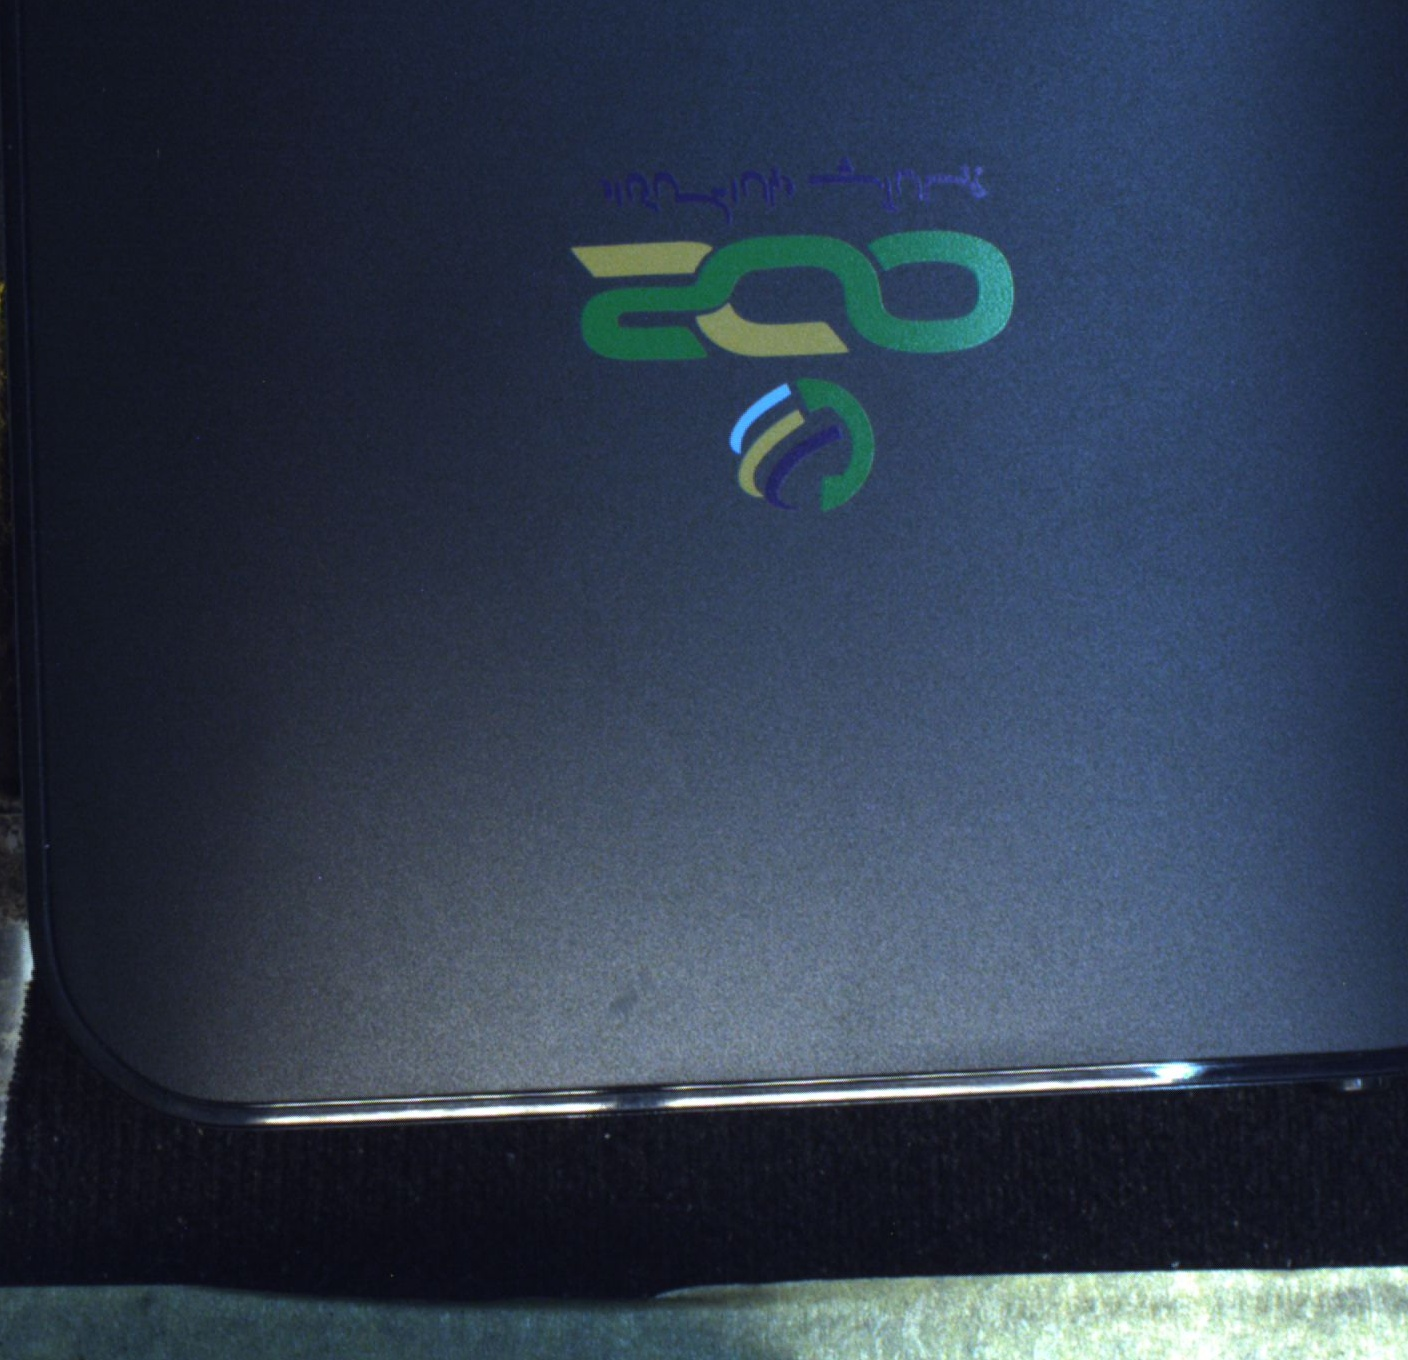BZ_HG680PSCOFirbeHome: (504, 134, 1086, 518)
